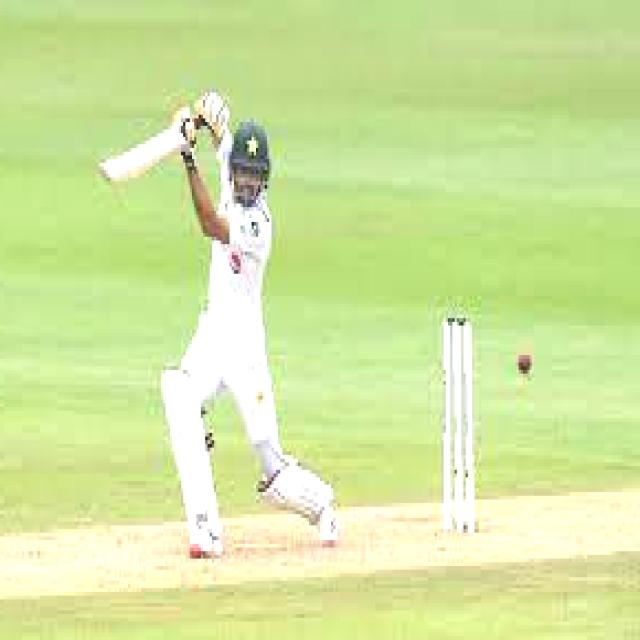toe: (95, 146, 140, 200)
